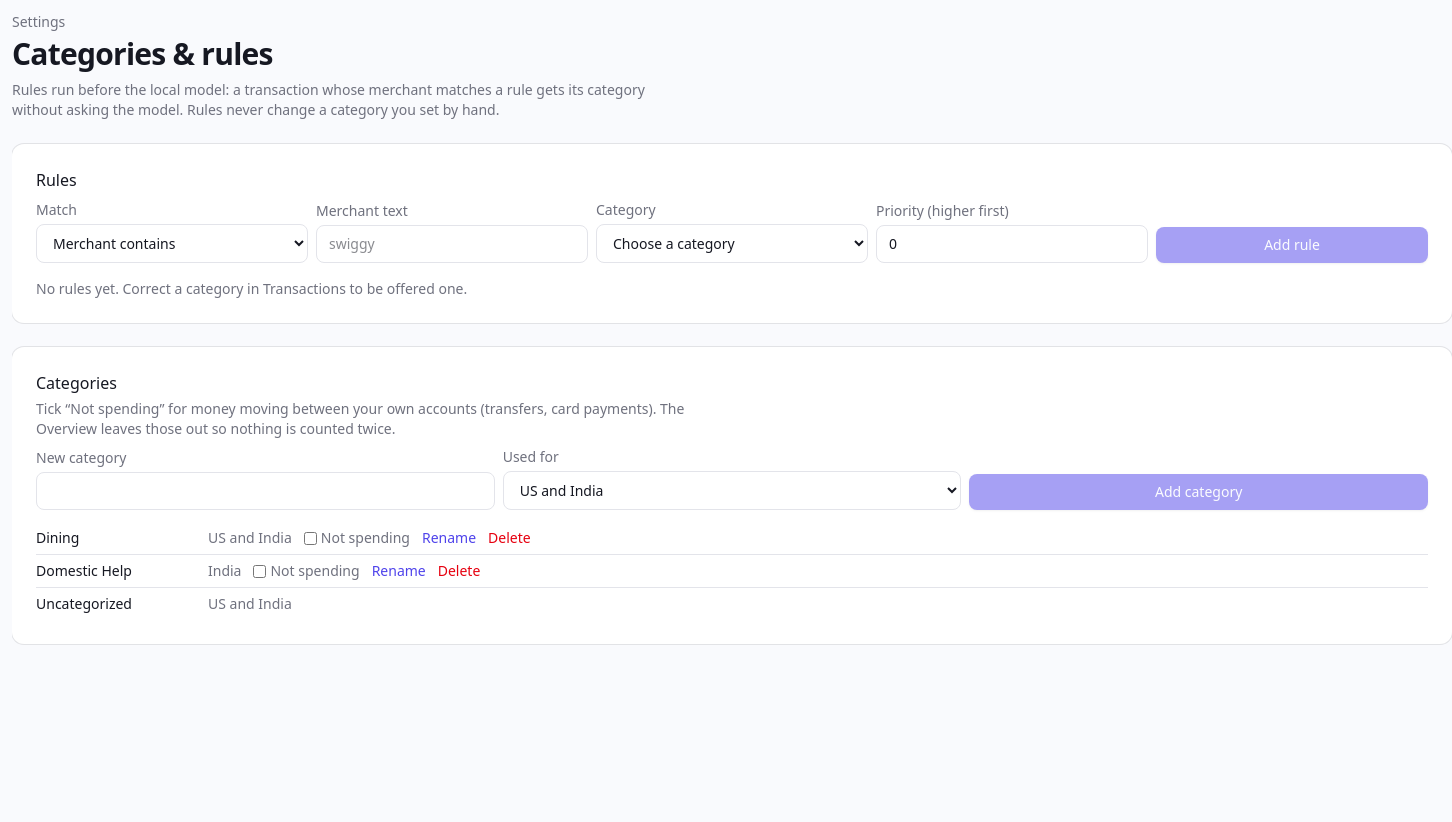
Test: a rule is added with its match, category and priority
In the field labelled "Merchant text": (452, 244) [316, 225, 588, 263], type "Swiggy"
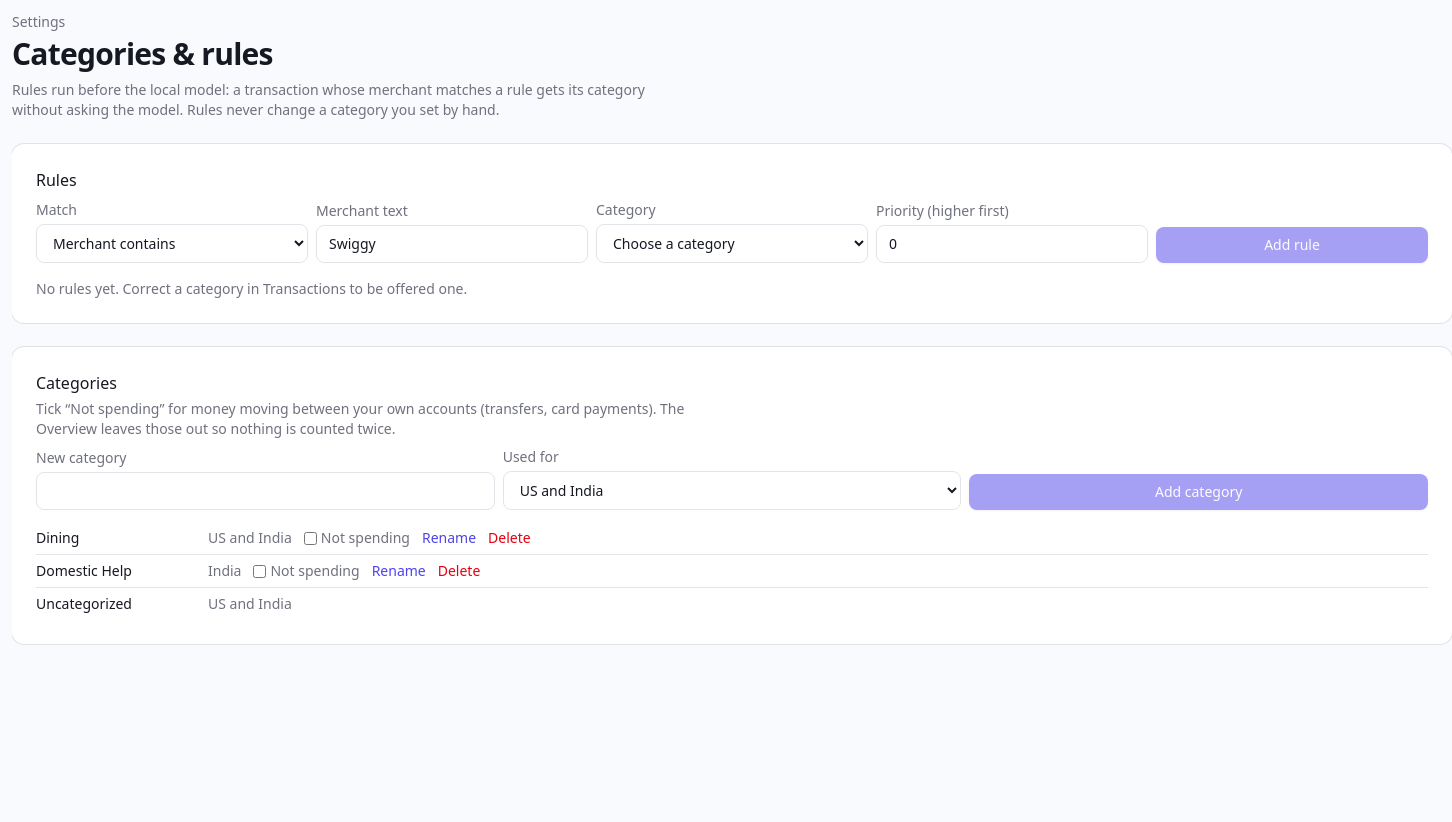
Select "Dining" in the dropdown labelled "Category": (732, 244) [596, 224, 868, 263]
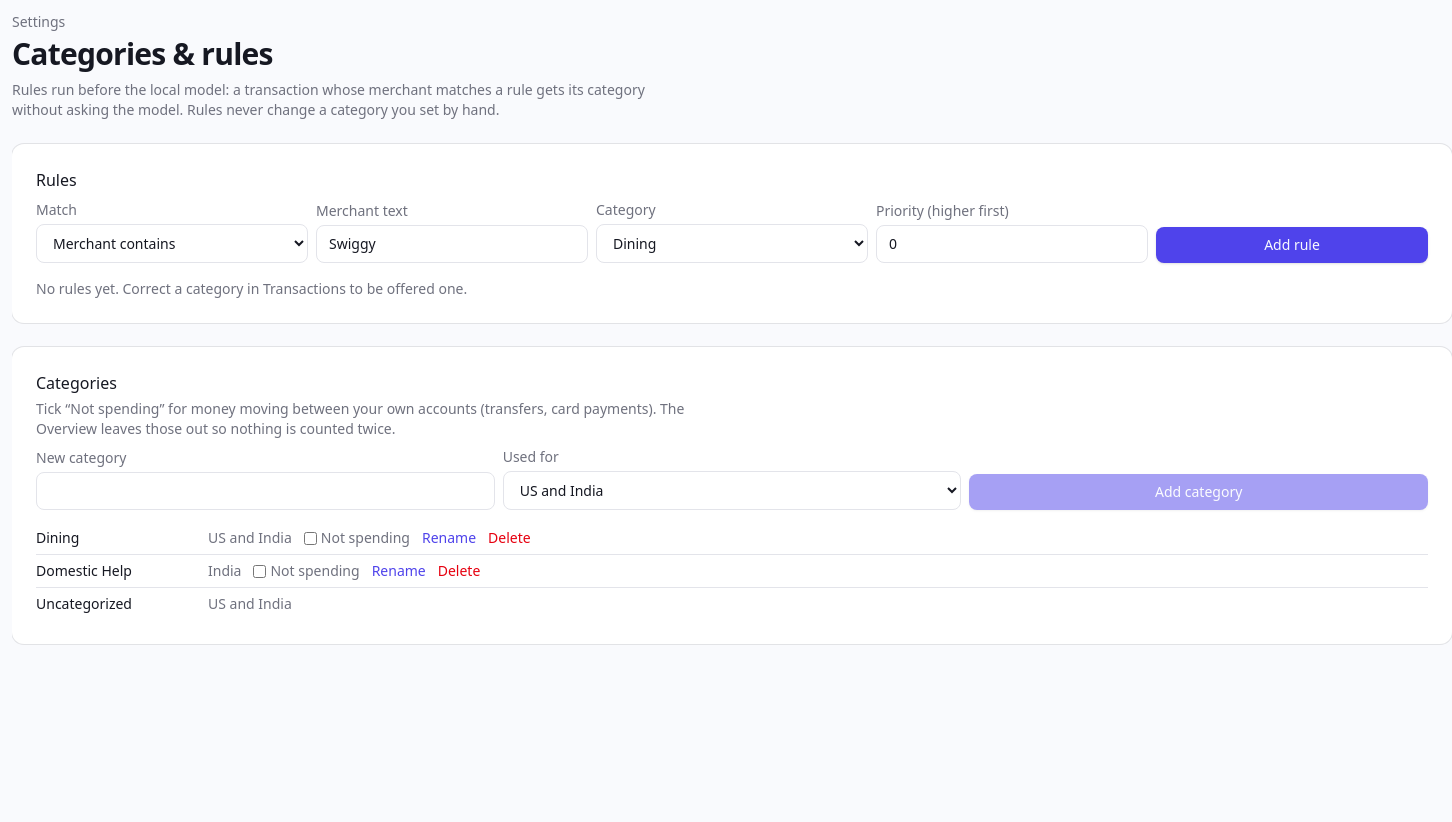
Replace the text in the number field labelled "Priority (higher first)" with "2": (1012, 244) [876, 225, 1148, 263]
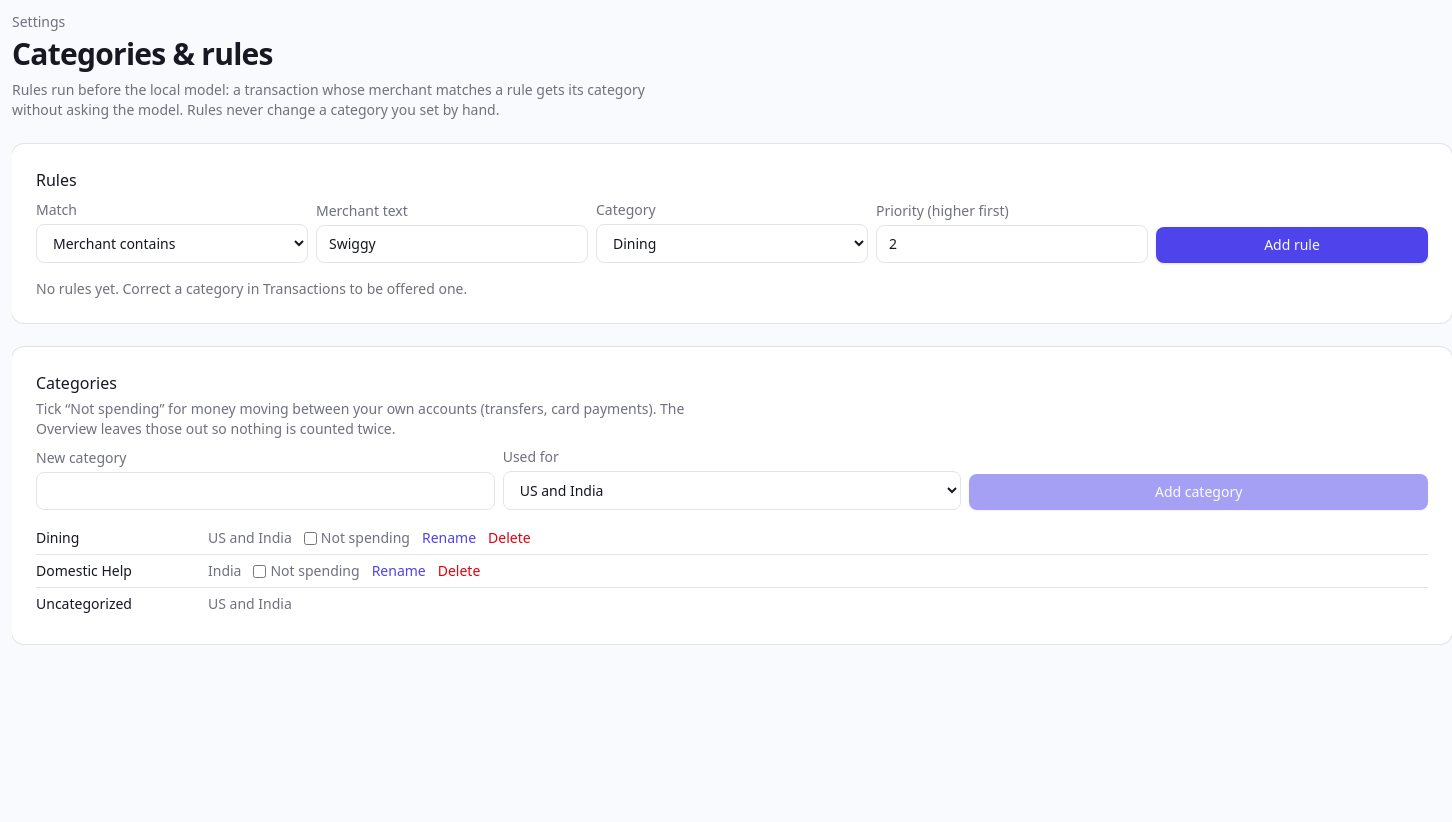
Click the button "Add rule": (1292, 245) [1156, 227, 1428, 263]
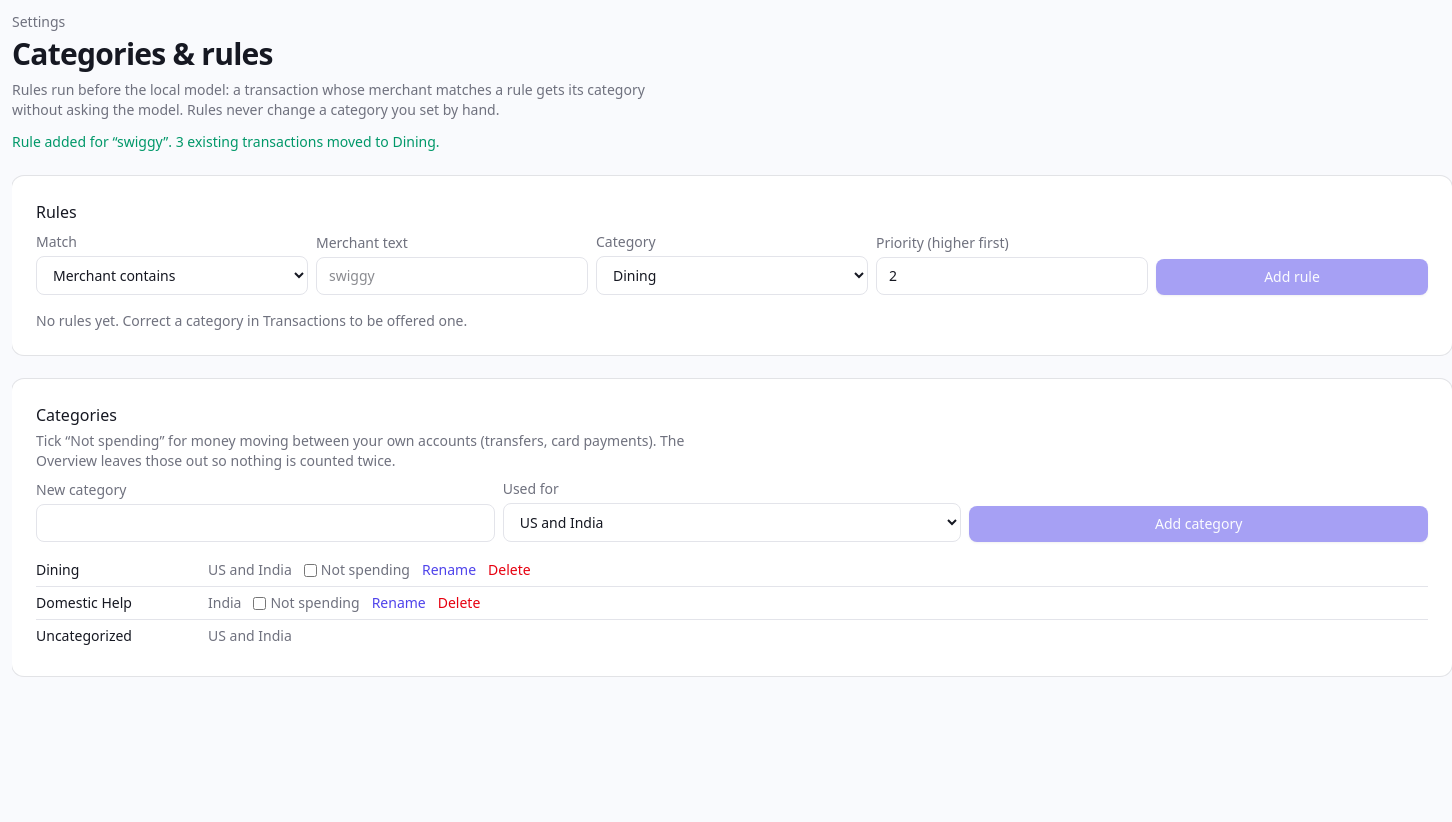
Check: the text "Rule added for “swiggy”. 3 existing transactions moved to Dining." is shown, box [12, 132, 440, 151]
